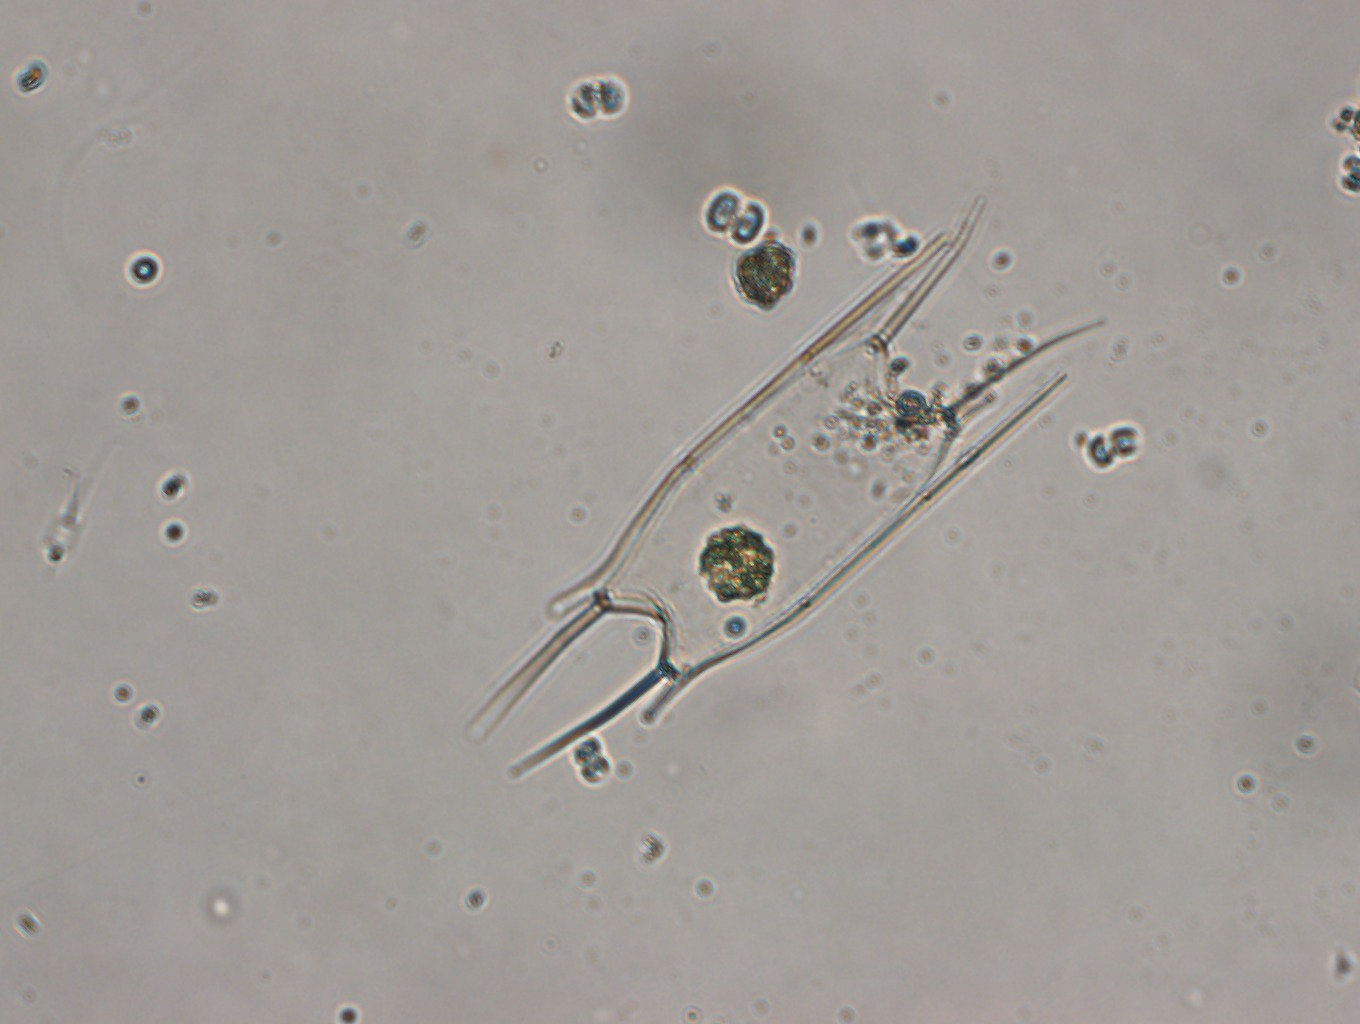biddulphia: (460, 199, 1133, 776)
